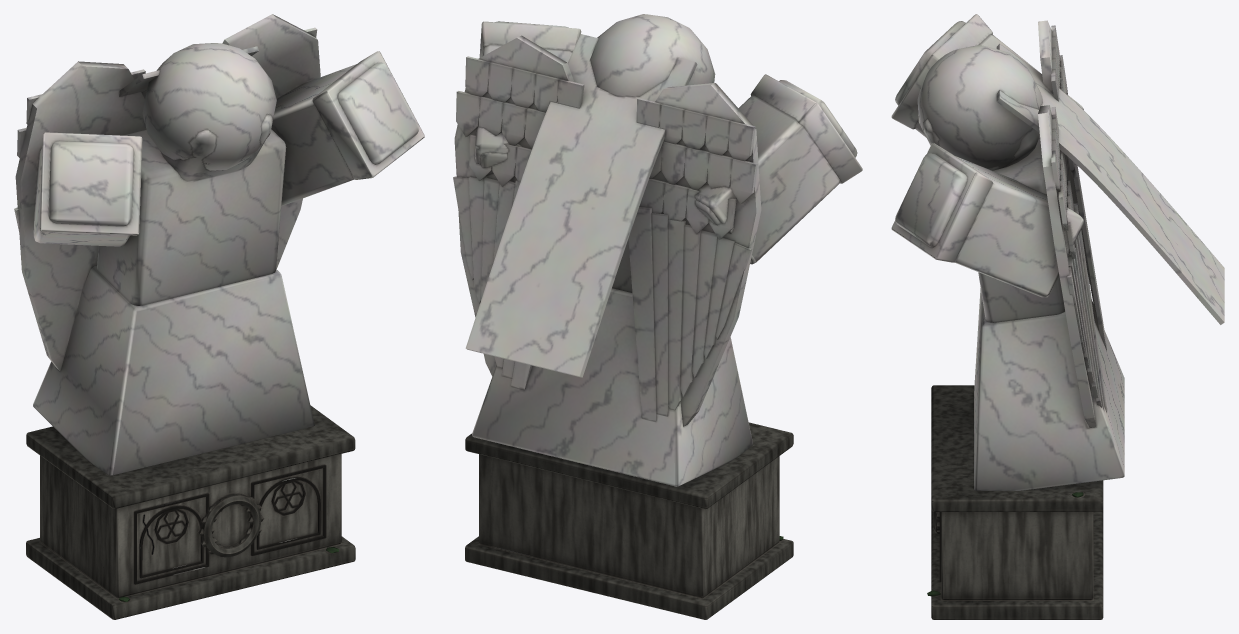
The model's file is MourningAngel.fbx.
The picture shows the model from 3 angles, left to right: view 1: azimuth 30°, elevation 25°; view 2: azimuth 150°, elevation 25°; view 3: azimuth 270°, elevation 25°; orthographic projection. The views are drawn at different scales.
Parts seen in each view (by area): view 1: MourningAngel_Figure, MourningAngel_Main; view 2: MourningAngel_Figure, MourningAngel_Main; view 3: MourningAngel_Figure, MourningAngel_Main.
Part boxes in pixels (left/top/right/bottom): MourningAngel_Figure: left=14, top=14, right=424, bottom=475; MourningAngel_Main: left=26, top=405, right=355, bottom=619; MourningAngel_Figure: left=453, top=14, right=862, bottom=486; MourningAngel_Main: left=465, top=422, right=793, bottom=619; MourningAngel_Figure: left=891, top=14, right=1224, bottom=490; MourningAngel_Main: left=927, top=385, right=1103, bottom=619.
Bounding box in the file's own units: 854 × 1115 × 658.
